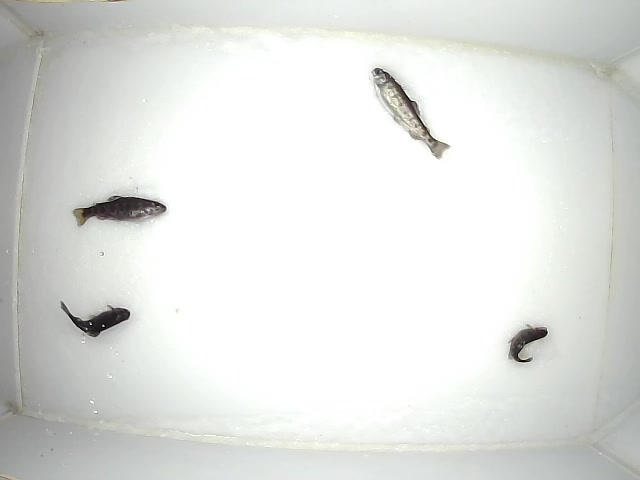fish: (371, 66, 451, 162), (71, 192, 168, 229), (56, 300, 133, 339), (507, 323, 548, 365)
